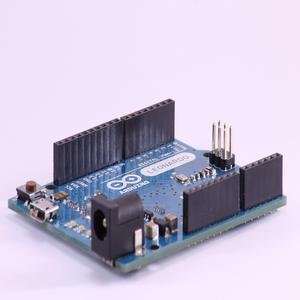duino: (12, 71, 291, 274)
